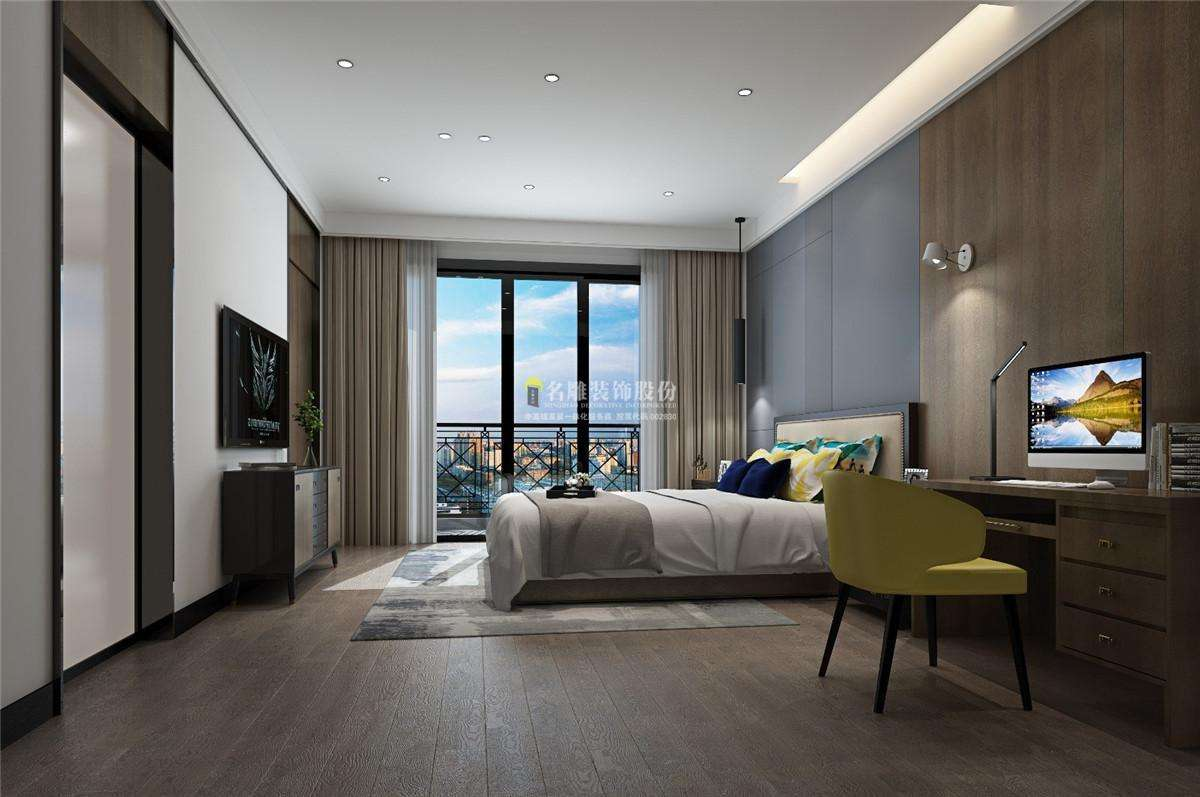床: (475, 475, 854, 610)
枕头: (712, 437, 876, 506)
灯: (985, 336, 1030, 481), (725, 211, 756, 401), (920, 241, 976, 276), (729, 82, 757, 104), (534, 69, 561, 91), (324, 56, 351, 76), (426, 127, 454, 145), (514, 179, 538, 200), (369, 170, 392, 190), (462, 130, 487, 148), (654, 189, 676, 207)
